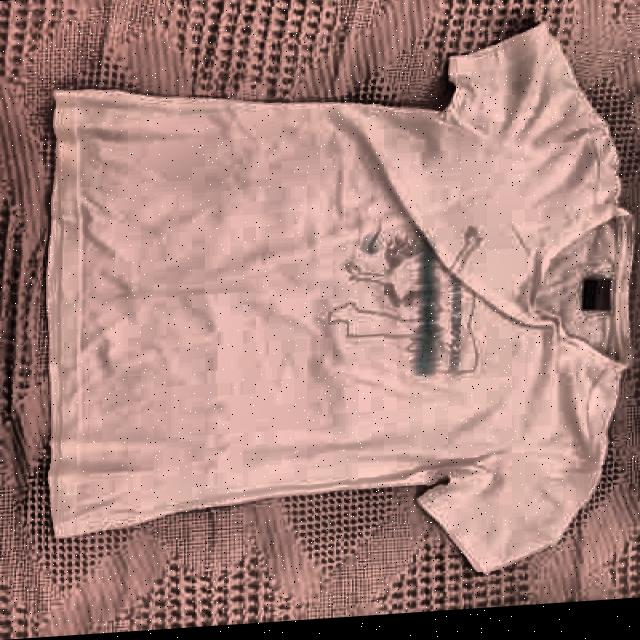clothes: (49, 17, 628, 599)
